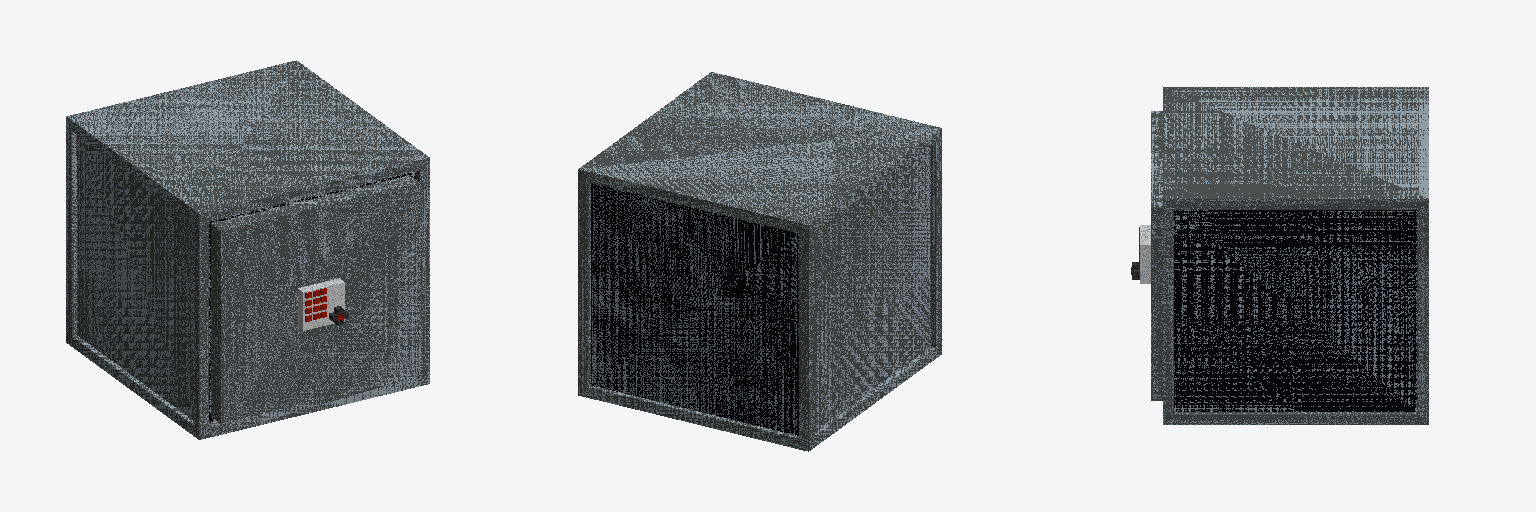
The model's file is safe.obj.
3 views of the same model, side by side, from view 1: azimuth 30°, elevation 25°; view 2: azimuth 150°, elevation 25°; view 3: azimuth 270°, elevation 25° (orthographic).
Parts seen in each view (by area): view 1: Mesh27 Model; view 2: Mesh27 Model; view 3: Mesh27 Model.
Boxes of the visible parts, <box> form: Mesh27 Model: <box>66,60,429,439</box>; Mesh27 Model: <box>578,72,941,451</box>; Mesh27 Model: <box>1140,87,1428,424</box>.
Size of the model in its own units: 0.9375 by 0.88 by 1.05.